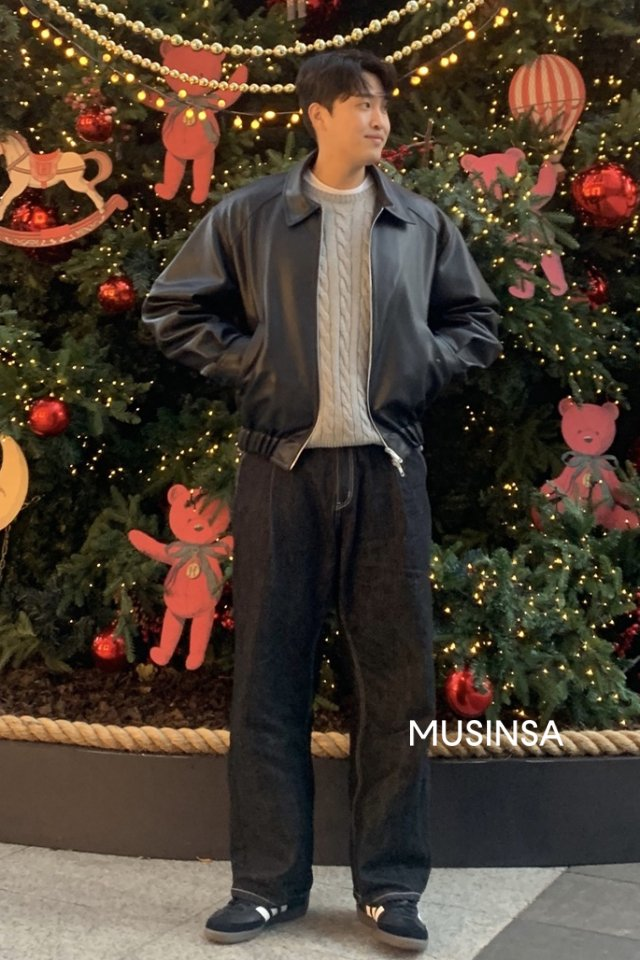Jacket: (149, 165, 512, 454)
Jeans: (222, 457, 429, 900)
Shoes: (203, 888, 440, 953)
